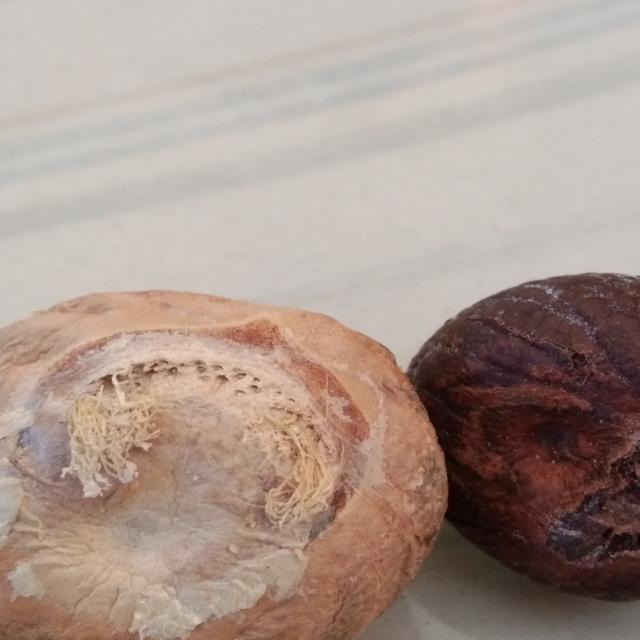good: (0, 278, 432, 640)
karigot: (415, 231, 640, 626)
